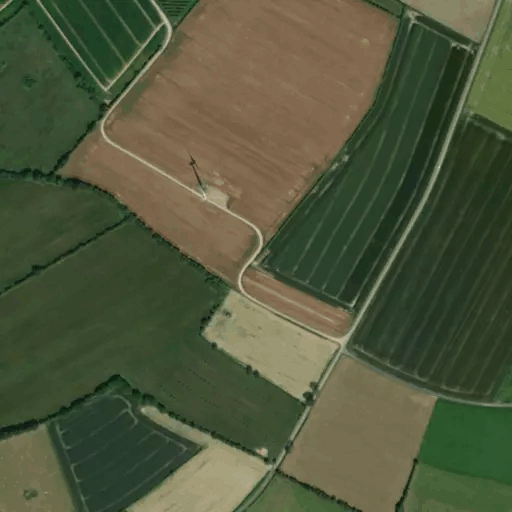wt: (185, 149, 215, 208)
